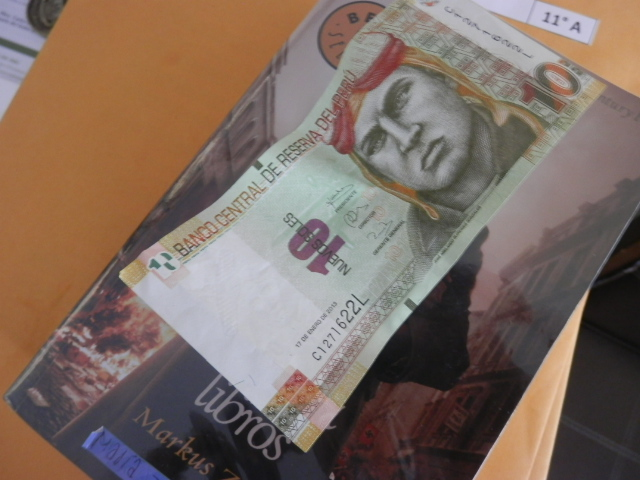B10: (145, 10, 591, 434)
